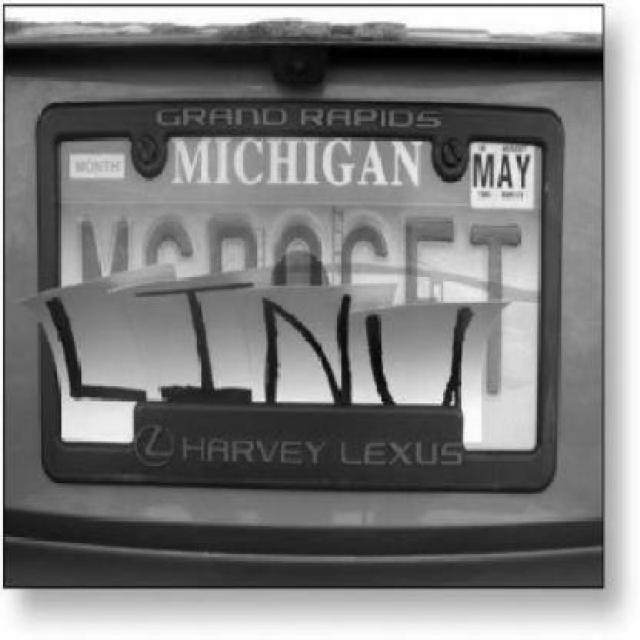licenseplate: (49, 115, 543, 452)
